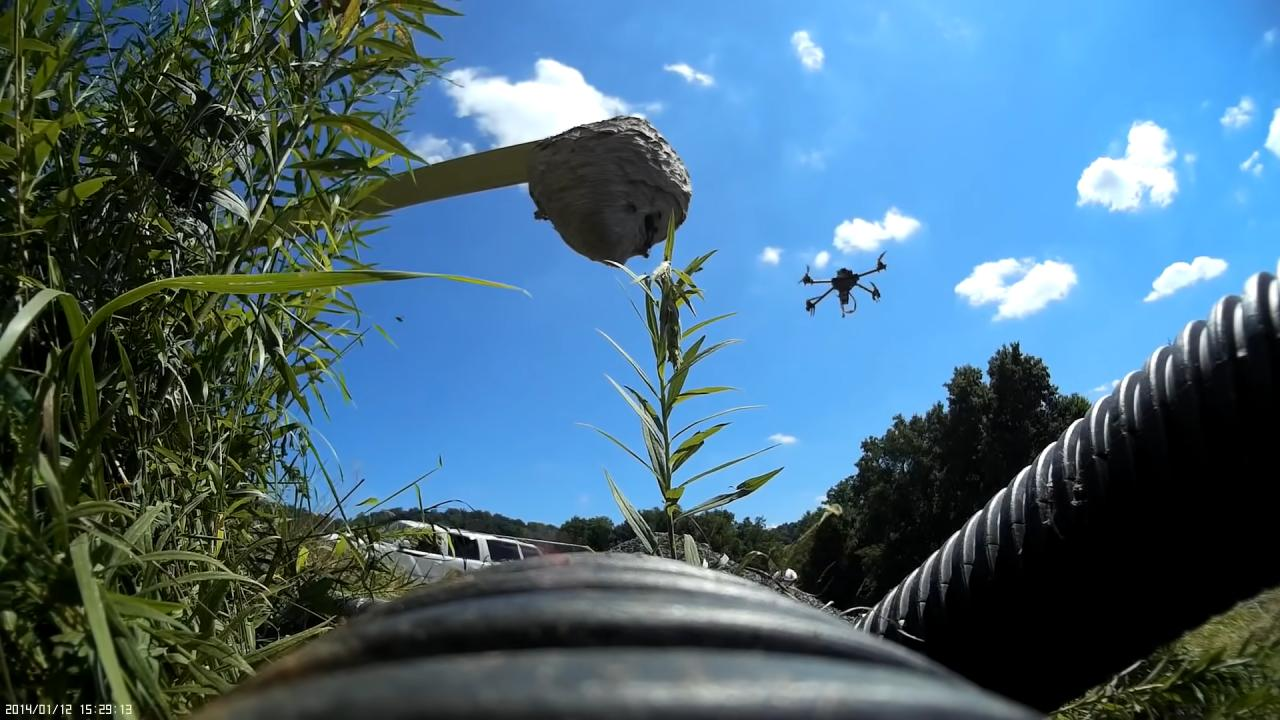Drone: (789, 241, 900, 329)
